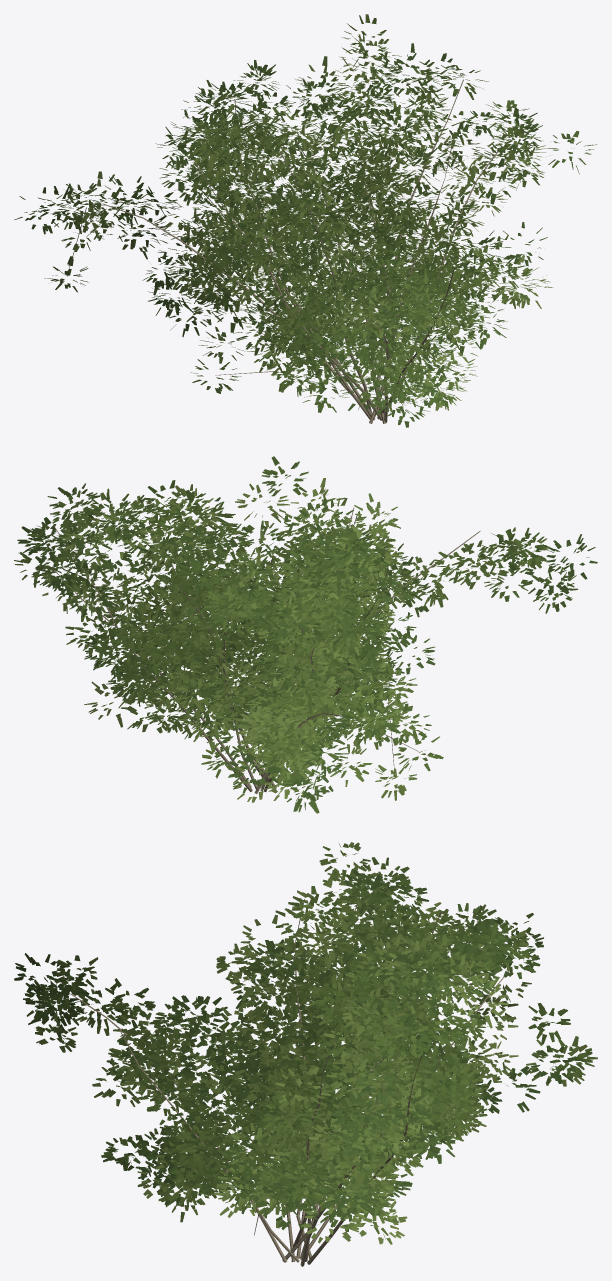
Rendered from willow2.glb.
The picture shows the model from 3 angles, top to bottom: view 1: azimuth 30°, elevation 25°; view 2: azimuth 150°, elevation 25°; view 3: azimuth 270°, elevation 25°; orthographic projection. The views are drawn at different scales.
Visible parts, largest first — view 1: lime2_lod0_1, lime2_lod0_0; view 2: lime2_lod0_1, lime2_lod0_0; view 3: lime2_lod0_1, lime2_lod0_0.
Boxes of the visible parts, bbox=[...] form: lime2_lod0_1: bbox=[14, 14, 597, 427]; lime2_lod0_0: bbox=[67, 79, 501, 423]; lime2_lod0_1: bbox=[14, 456, 597, 813]; lime2_lod0_0: bbox=[51, 507, 480, 793]; lime2_lod0_1: bbox=[14, 842, 597, 1244]; lime2_lod0_0: bbox=[70, 895, 509, 1266].
Size of what is drawn, in the model's own units: 6.74 by 4.54 by 6.75.
Materials: 2 (1 with a texture image).
